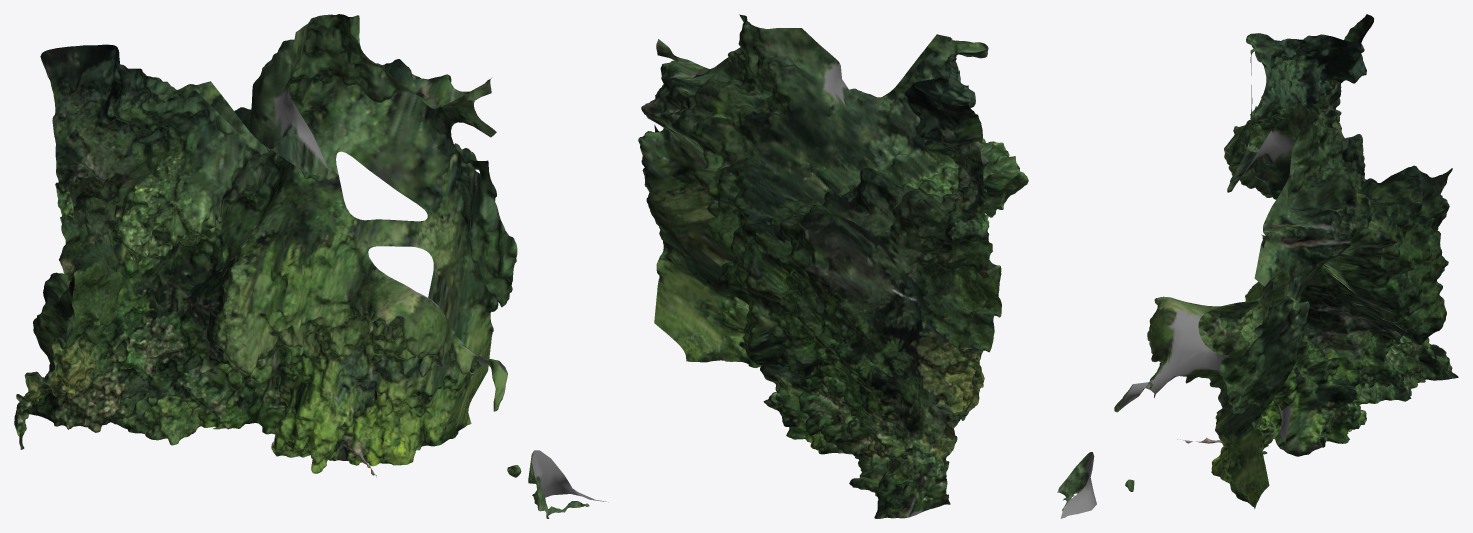
Rendered from Tile_+020_+023.fbx.
3 renders of one model, left to right at view 1: azimuth 30°, elevation 25°; view 2: azimuth 150°, elevation 25°; view 3: azimuth 270°, elevation 25°, orthographic. The views are drawn at different scales.
Parts seen in each view (by area): view 1: DefaultName; view 2: DefaultName; view 3: DefaultName.
Part boxes in pixels (<box>): DefaultName: <box>14,14,608,518</box>; DefaultName: <box>638,14,1028,518</box>; DefaultName: <box>1057,14,1458,518</box>.
Size of the model in its own units: 22.54 by 22.54 by 23.78.
